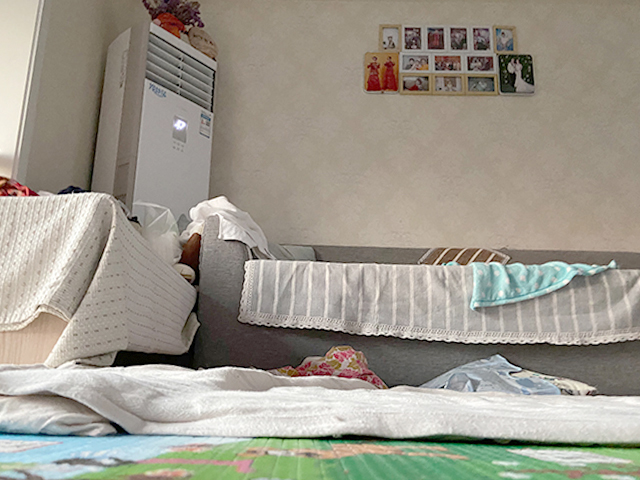sofa: (194, 213, 640, 398), (1, 191, 197, 365)
